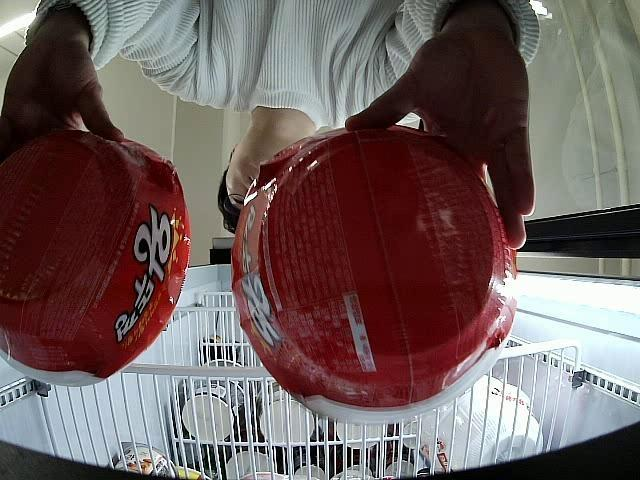10_wangTtukkeong: (232, 123, 516, 430), (0, 136, 192, 387)
